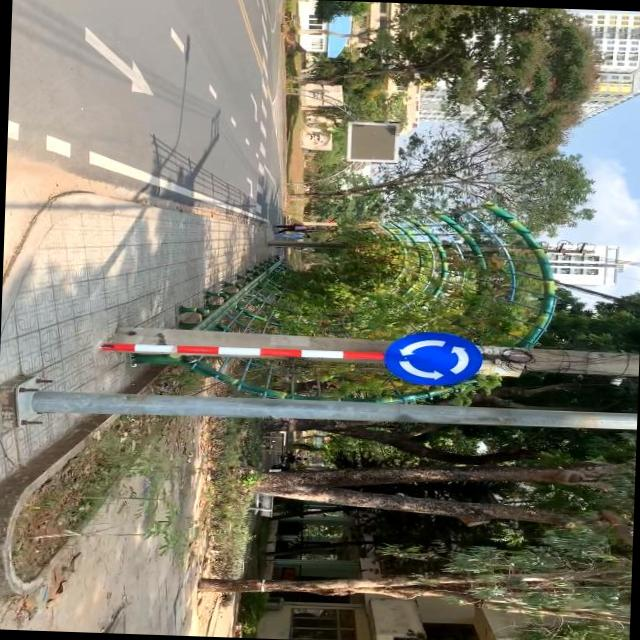R-303: (384, 330, 480, 386)
